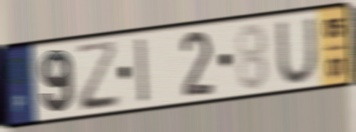2: (179, 28, 217, 100)
8: (236, 21, 270, 94)
9: (38, 46, 76, 117)
I: (134, 35, 151, 107)
U: (274, 14, 321, 86)
Z: (73, 38, 123, 115)
